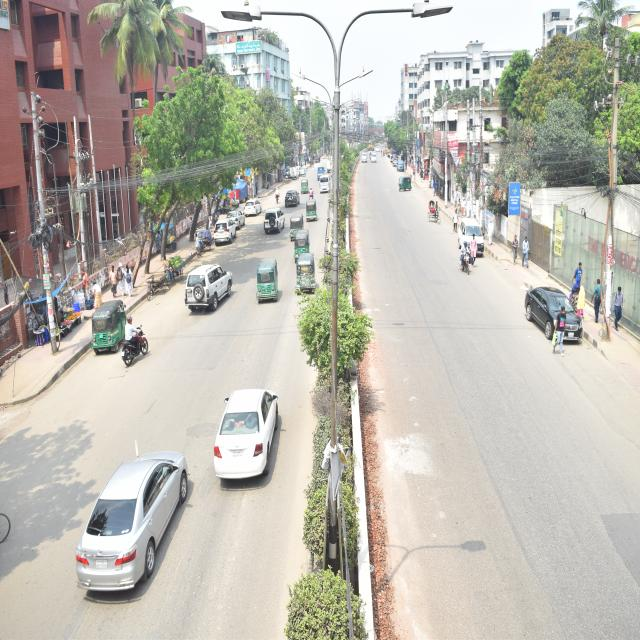car: (58, 435, 256, 602), (195, 371, 318, 491), (510, 270, 612, 409), (185, 256, 258, 341), (448, 200, 492, 268), (255, 198, 293, 238), (212, 206, 244, 253), (277, 177, 307, 217), (222, 196, 250, 234), (237, 186, 266, 218), (317, 170, 342, 200), (368, 145, 381, 176), (359, 150, 371, 166), (372, 138, 382, 156)
motorbike: (110, 310, 167, 384), (460, 234, 474, 290), (307, 182, 318, 216)
pickup-van: (288, 162, 306, 189), (312, 157, 329, 181), (390, 156, 411, 173)
